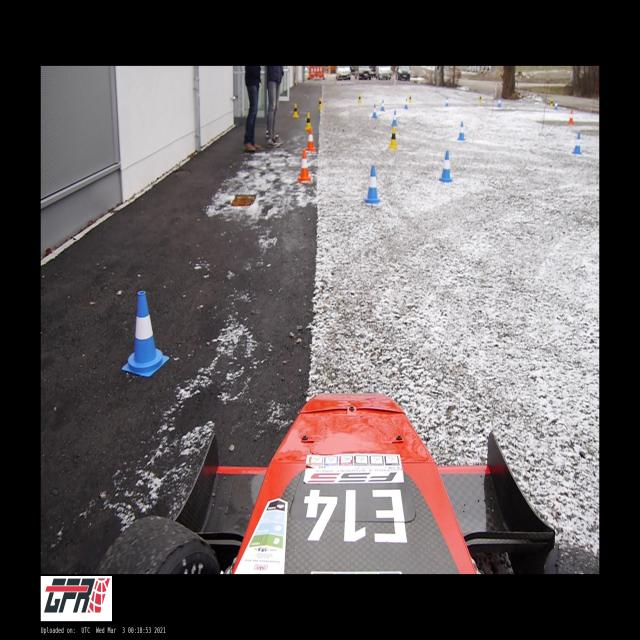blue_cone: (122, 291, 169, 376), (365, 165, 380, 203), (440, 150, 452, 182), (572, 133, 582, 154), (458, 122, 466, 140), (392, 111, 398, 126), (372, 104, 378, 118), (380, 100, 384, 111), (404, 98, 408, 109), (554, 101, 558, 110), (498, 98, 501, 107), (446, 97, 448, 107)
orange_cone: (298, 150, 311, 181), (306, 128, 316, 151), (569, 109, 574, 124)
yellow_cone: (389, 126, 398, 149), (292, 104, 299, 118), (305, 113, 310, 130), (318, 98, 322, 109), (358, 94, 362, 103), (409, 95, 411, 103), (550, 100, 552, 108), (479, 96, 481, 103)
